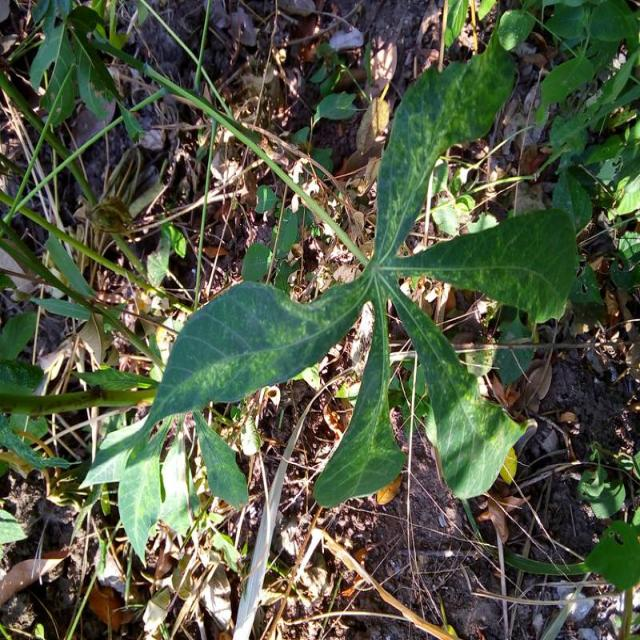cassava leaf: (84, 17, 579, 538), (78, 268, 374, 491)
